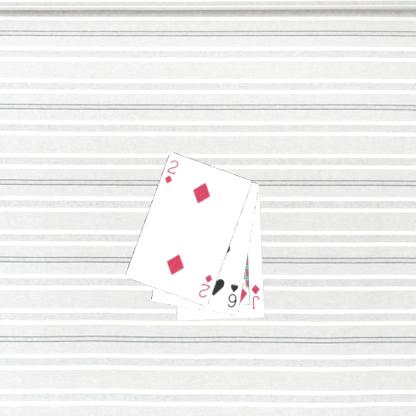2D: (196, 272, 214, 300), (162, 157, 180, 185)
6S: (224, 281, 240, 309)
JD: (249, 282, 261, 310)
